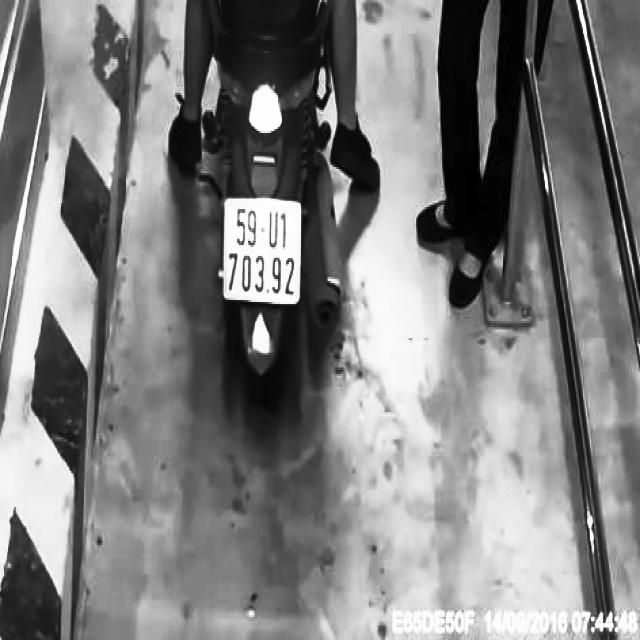license_plate: (218, 190, 316, 317)
